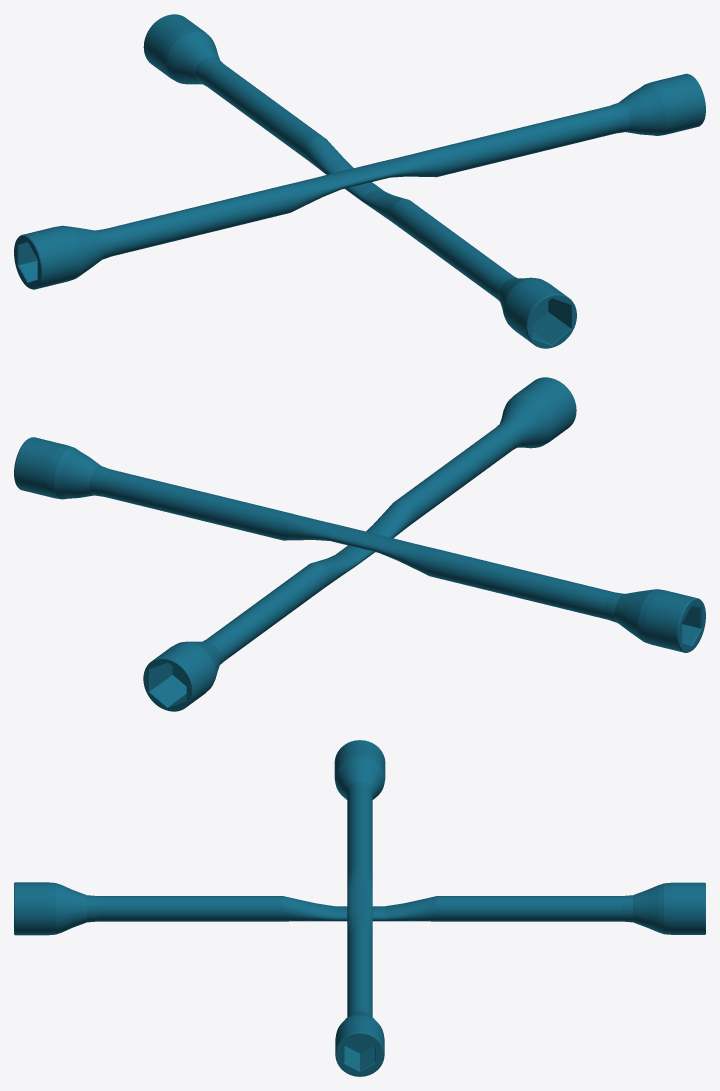
3 renders of one model, top to bottom at view 1: azimuth 30°, elevation 25°; view 2: azimuth 150°, elevation 25°; view 3: azimuth 270°, elevation 25°, orthographic. The views are drawn at different scales.
Parts seen in each view (by area): view 1: Fixed_welded_cross_with_four_open_hex_sockets; view 2: Fixed_welded_cross_with_four_open_hex_sockets; view 3: Fixed_welded_cross_with_four_open_hex_sockets.
Boxes of the visible parts, x1,y1,x2,y2 form: Fixed_welded_cross_with_four_open_hex_sockets: (14, 14, 705, 348); Fixed_welded_cross_with_four_open_hex_sockets: (14, 377, 705, 711); Fixed_welded_cross_with_four_open_hex_sockets: (14, 740, 705, 1076).
Bounding box in the file's own units: 0.38 × 0.029 × 0.38.
